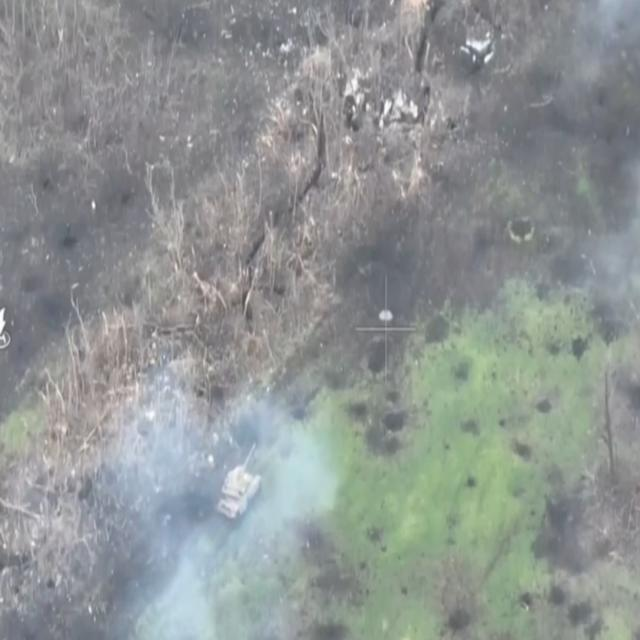tank: (215, 465, 262, 521)
